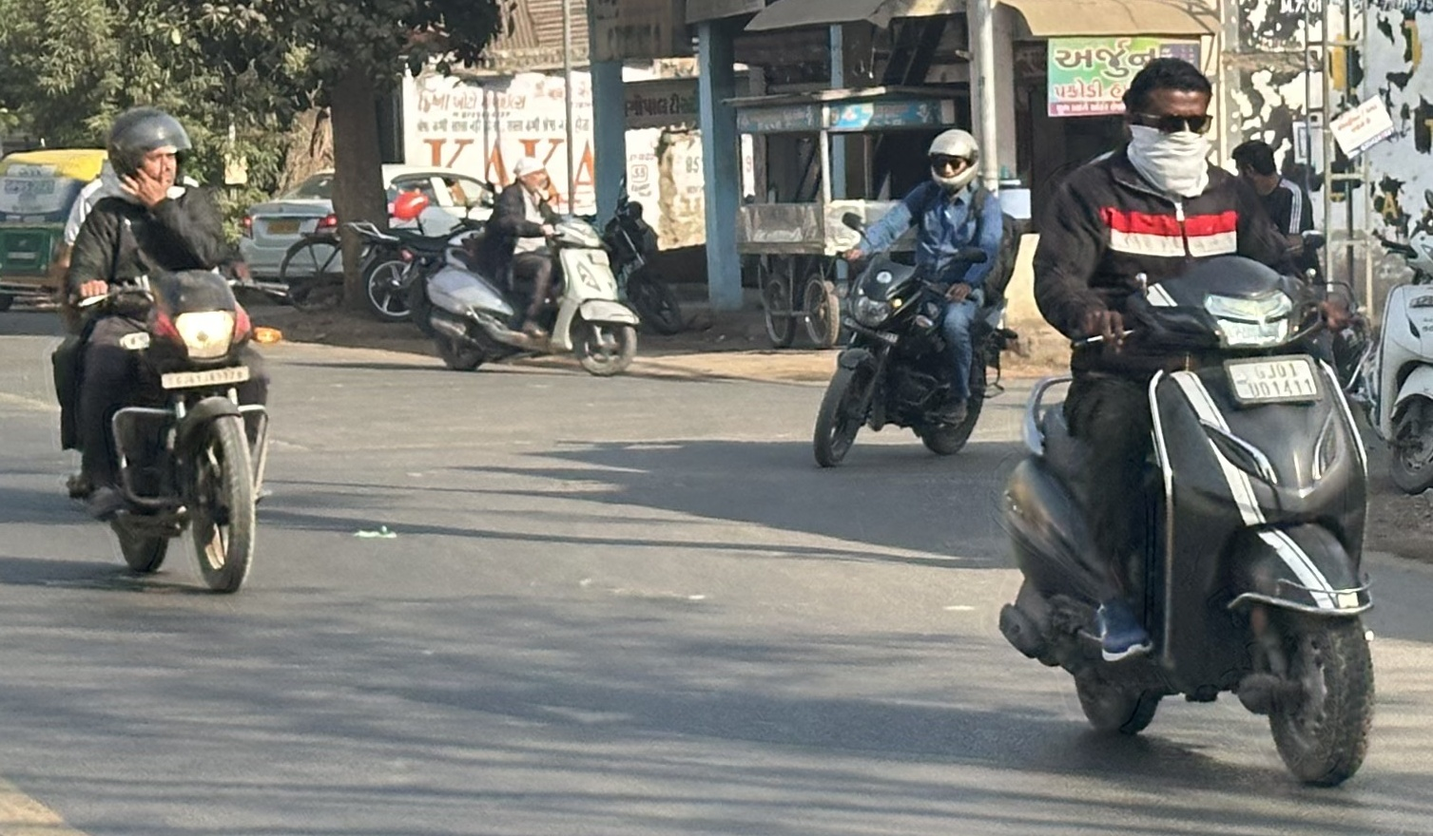BikeWithRider: (985, 48, 1403, 799), (40, 70, 310, 597), (794, 119, 1014, 470), (414, 127, 679, 391)
Helmet: (99, 102, 194, 208), (910, 116, 997, 200)
NoHelmet: (1107, 40, 1236, 200), (507, 155, 552, 192)
